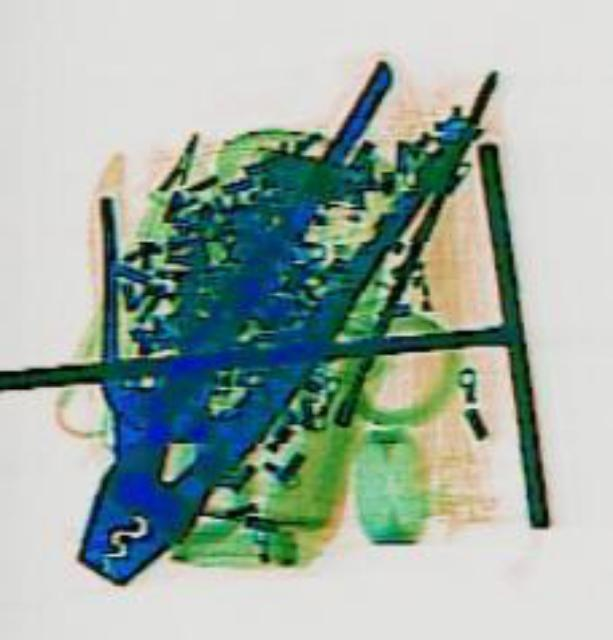Pliers: (36, 54, 483, 602)
